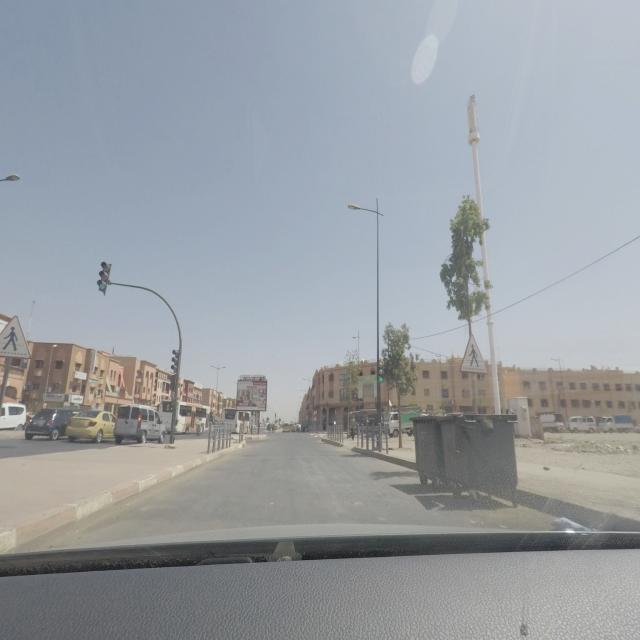car: (113, 403, 166, 445), (24, 406, 77, 442), (66, 405, 116, 443), (381, 411, 416, 437), (0, 402, 27, 434), (599, 414, 633, 434), (537, 412, 565, 432), (568, 416, 596, 432), (281, 422, 292, 433)
